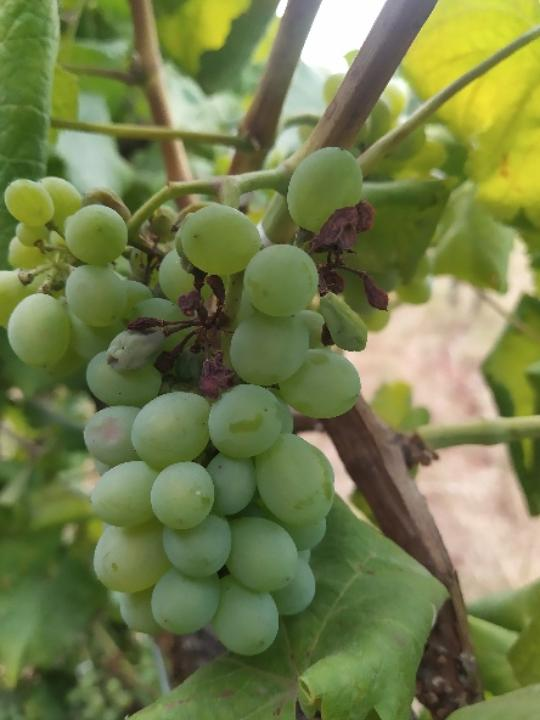grape: (0, 143, 393, 659)
